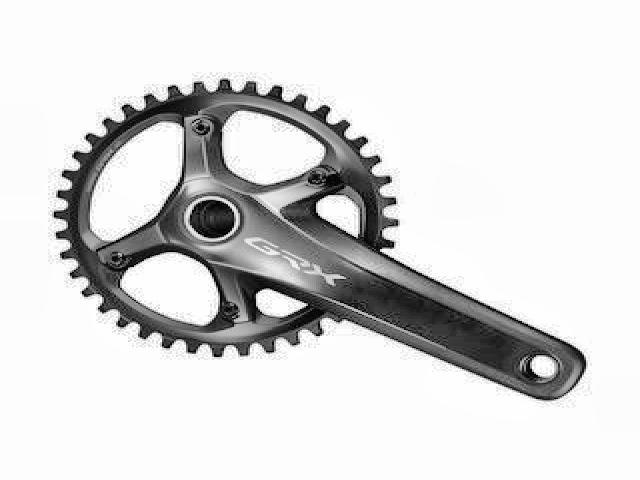cranks_set: (53, 78, 589, 402)
